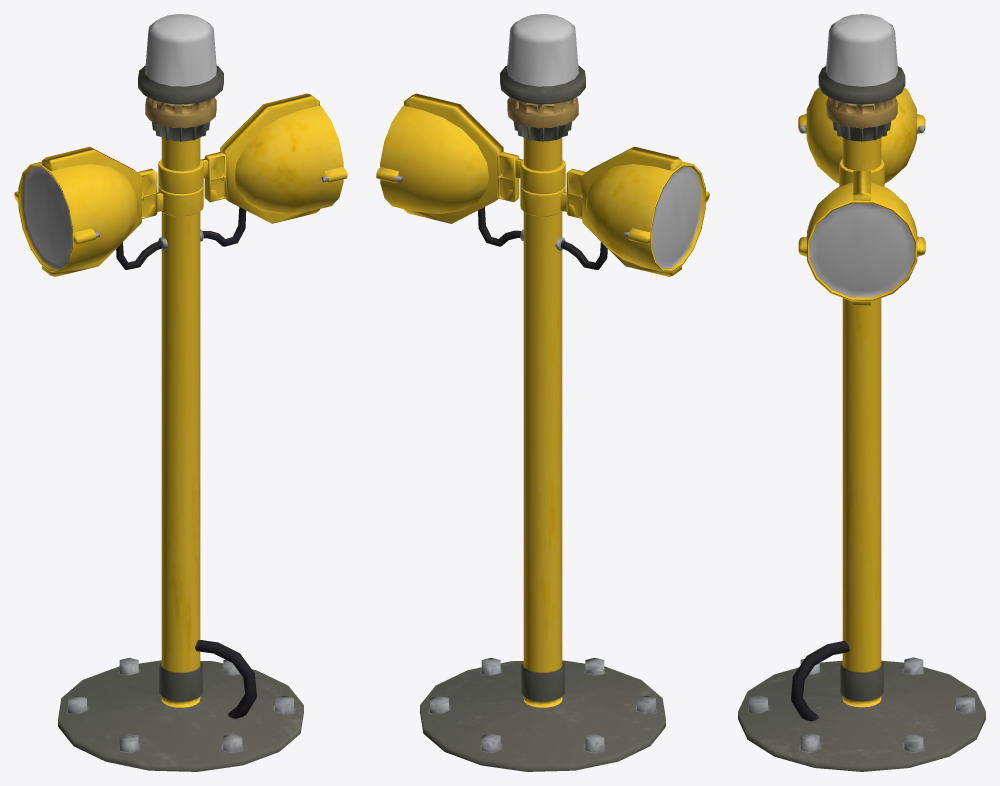
Rendered from anflugfeuersystem_atr_taxiway_mittel.fbx.
The picture shows the model from 3 angles, left to right: view 1: azimuth 30°, elevation 25°; view 2: azimuth 150°, elevation 25°; view 3: azimuth 270°, elevation 25°; orthographic projection.
Visible parts, largest first — view 1: taxiway_atr_mittel_signal_rot_high, taxiway_atr_mittel_signal_rot_doppelt_high, taxiway_atr_mittel_signal_rot_einfach_high, taxiway_atr_mittel_doppelt_low; view 2: taxiway_atr_mittel_signal_rot_high, taxiway_atr_mittel_signal_rot_doppelt_high, taxiway_atr_mittel_signal_rot_einfach_high, taxiway_atr_mittel_doppelt_low; view 3: taxiway_atr_mittel_signal_rot_high, taxiway_atr_mittel_signal_rot_doppelt_high, taxiway_atr_mittel_doppelt_low, taxiway_atr_mittel_signal_rot_einfach_high.
Part boxes in pixels (x1,y1,x2,y2): taxiway_atr_mittel_signal_rot_high: (58, 14, 303, 771); taxiway_atr_mittel_signal_rot_doppelt_high: (158, 93, 347, 246); taxiway_atr_mittel_signal_rot_einfach_high: (14, 146, 203, 276); taxiway_atr_mittel_doppelt_low: (161, 142, 200, 672); taxiway_atr_mittel_signal_rot_high: (420, 14, 665, 771); taxiway_atr_mittel_signal_rot_doppelt_high: (376, 93, 565, 246); taxiway_atr_mittel_signal_rot_einfach_high: (520, 146, 709, 276); taxiway_atr_mittel_doppelt_low: (523, 141, 562, 672); taxiway_atr_mittel_signal_rot_high: (738, 14, 985, 771); taxiway_atr_mittel_signal_rot_doppelt_high: (798, 159, 925, 305); taxiway_atr_mittel_doppelt_low: (842, 141, 880, 669); taxiway_atr_mittel_signal_rot_einfach_high: (798, 87, 925, 186).
Bounding box in the file's own units: 37.76 × 93.45 × 30.
